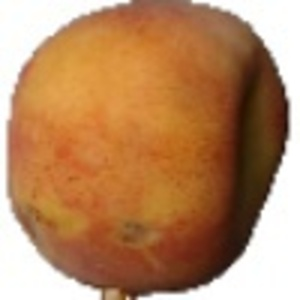pêssego: (1, 1, 292, 300)
